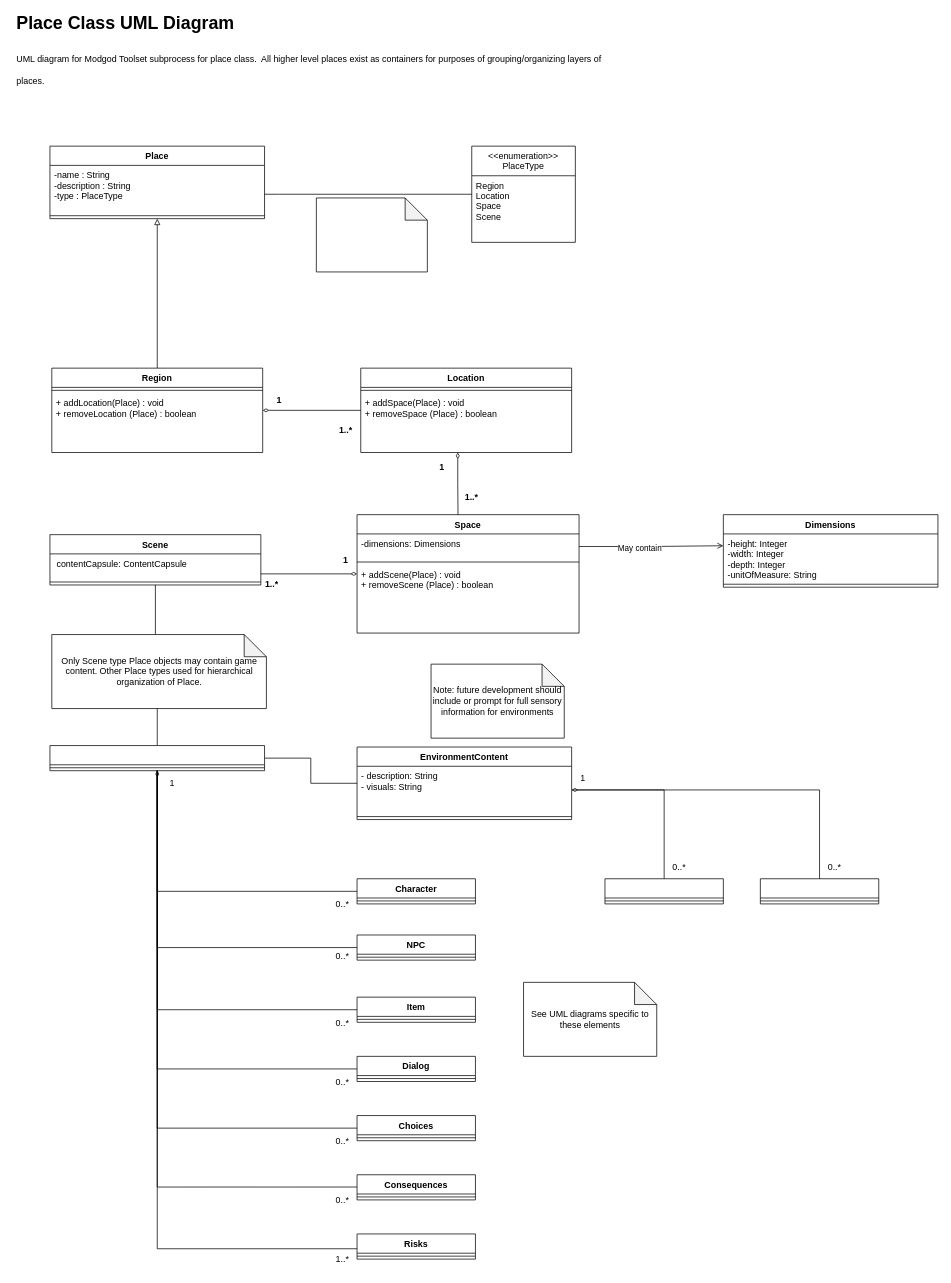
Image size: 951x1283. Some labels were removed from this diagram. The centre of each missing label's shape, as x and y in pixels:
AreaOfEffect: point 819,891
ContentCapsule: point 157,758
PlaceType defines possible types for each Place object: point 371,234
Trigger: point 663,891
